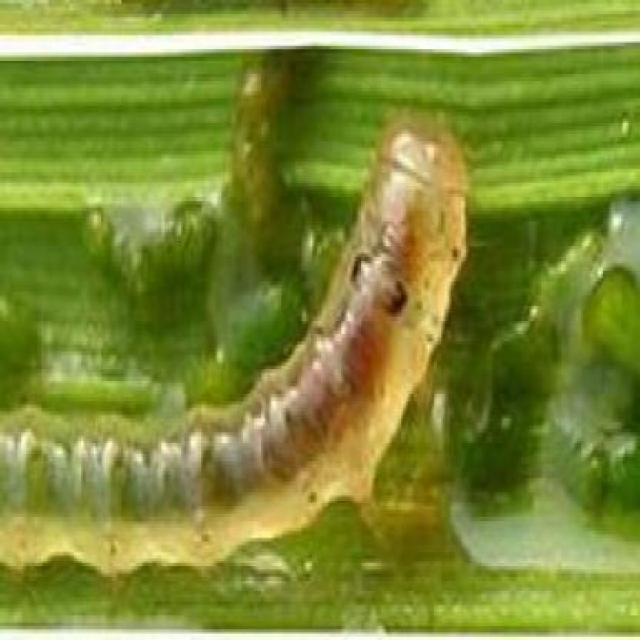leaf-folder: (0, 106, 495, 580)
